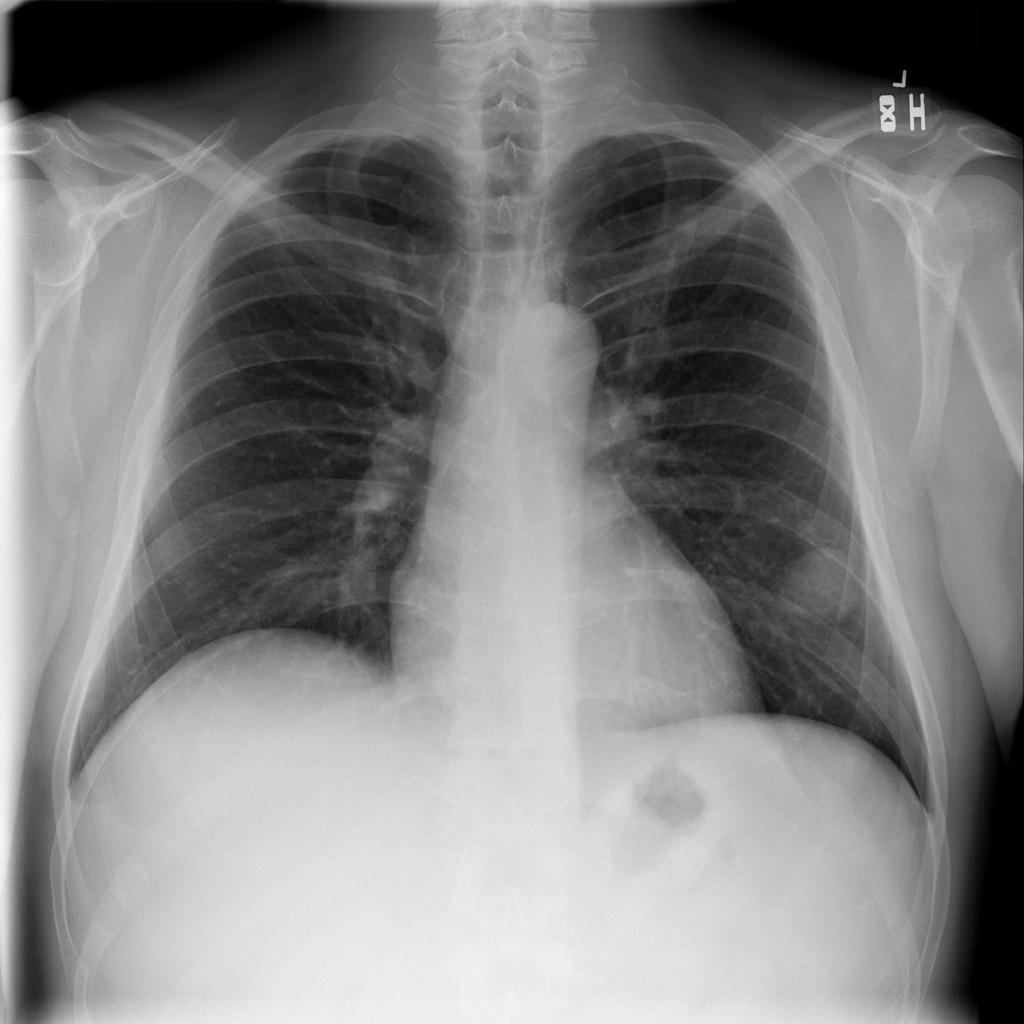nodule: (770, 528, 877, 645)
